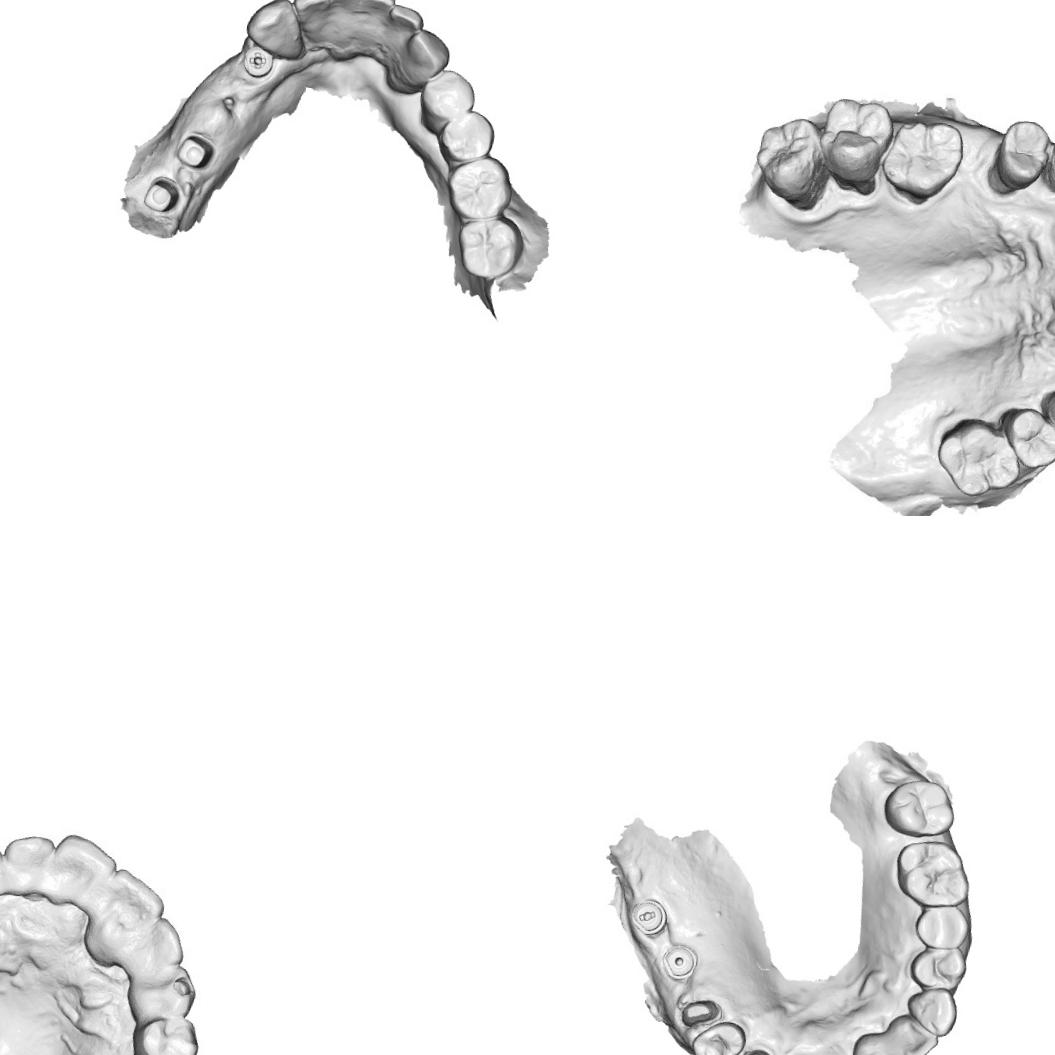abutment: (170, 124, 219, 176), (139, 169, 181, 218)
canine: (240, 0, 312, 65), (139, 961, 201, 1025), (397, 27, 455, 88), (902, 983, 960, 1040)
crown: (678, 995, 721, 1032)
implant: (659, 942, 700, 984)
implant_minus: (628, 894, 670, 938)
implant_plus: (238, 40, 280, 82)
incisor: (48, 834, 116, 916), (98, 868, 165, 934), (0, 830, 53, 904), (120, 918, 184, 977), (286, 0, 339, 52), (350, 0, 399, 55), (881, 1011, 941, 1055), (382, 2, 424, 64), (318, 0, 366, 50), (846, 1030, 916, 1055)
molar: (878, 115, 968, 202), (750, 115, 830, 204), (817, 89, 893, 182), (939, 416, 1019, 498), (891, 836, 975, 912), (440, 150, 518, 228), (452, 212, 527, 284), (880, 776, 958, 843)
premolar: (989, 115, 1053, 192), (414, 64, 479, 136), (432, 104, 500, 168), (1004, 406, 1055, 473), (907, 942, 969, 994), (912, 900, 971, 954), (688, 1016, 748, 1055), (137, 1017, 198, 1055)
